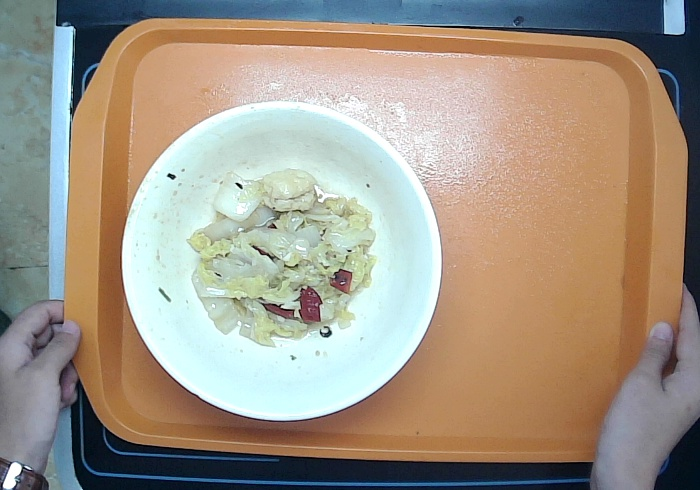ZNLD-Da_Tang_Wan: (120, 100, 443, 428)
